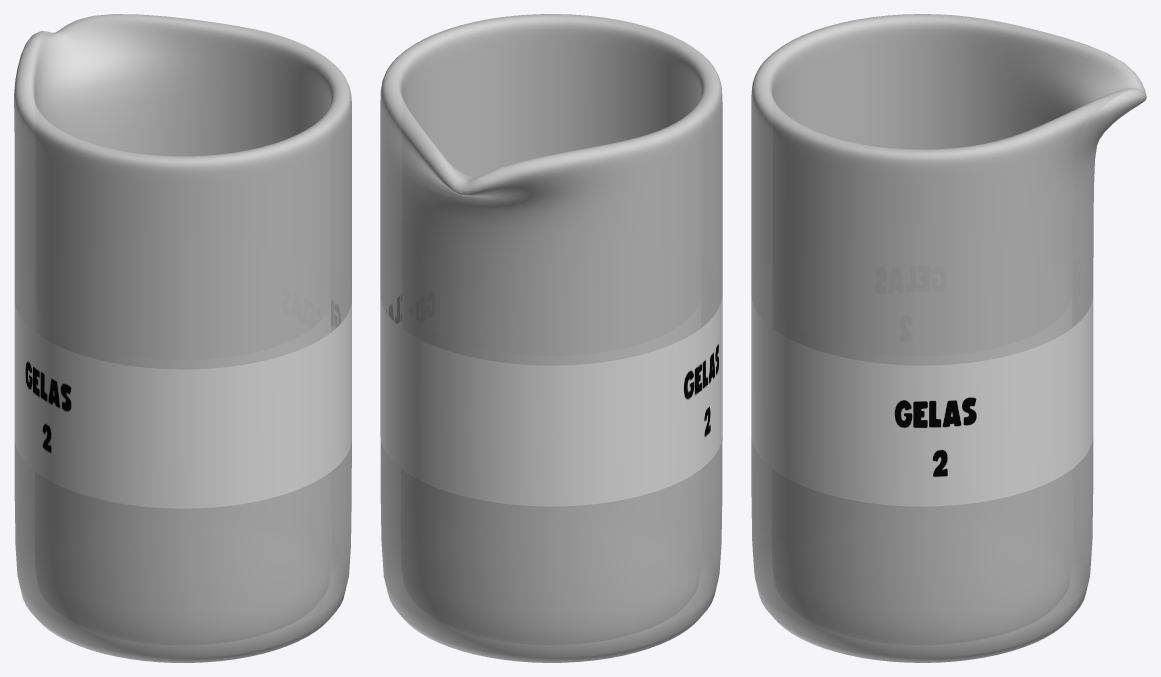
File: gelas2_kosong.fbx
3 views of the same model, side by side, from view 1: azimuth 30°, elevation 25°; view 2: azimuth 150°, elevation 25°; view 3: azimuth 270°, elevation 25° (orthographic).
Visible parts, largest first — view 1: polySurface1564; view 2: polySurface1564; view 3: polySurface1564.
Part boxes in pixels (x1=…): polySurface1564: x1=14, y1=14, x2=351, y2=662; polySurface1564: x1=380, y1=14, x2=722, y2=662; polySurface1564: x1=751, y1=14, x2=1146, y2=662.
Bounding box in the file's own units: 1.08 × 1.82 × 1.25.
2 materials, 1 textured.
